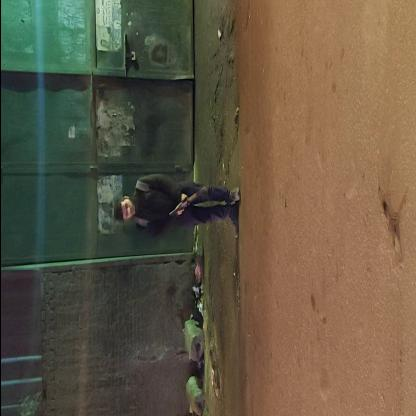long weapon: (160, 174, 209, 228)
